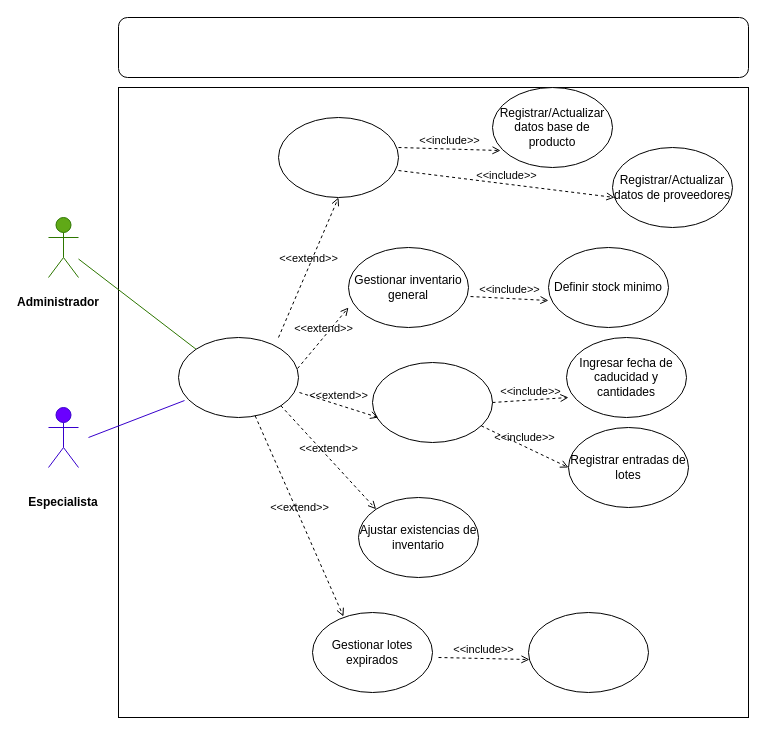
This 766x735 diagram has some shape labels left out. Here are the shapes that lost their labels. From the top down, the centre of each, then its label:
At point 433,47: "Diagrama de caso de uso del Módulo de Gestión de inventario".
At point 338,157: "Administrar Productos, categorias, unidades y proveedores".
At point 238,377: "Gestión de inventario".
At point 432,402: "Crear y administrar lotes".
At point 588,652: "Dar lote de baja".
